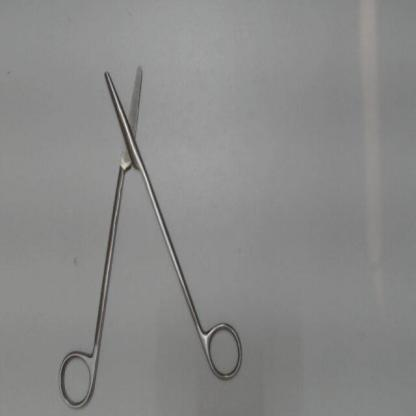9 Metzenbaum Scissors: (54, 59, 249, 415)
